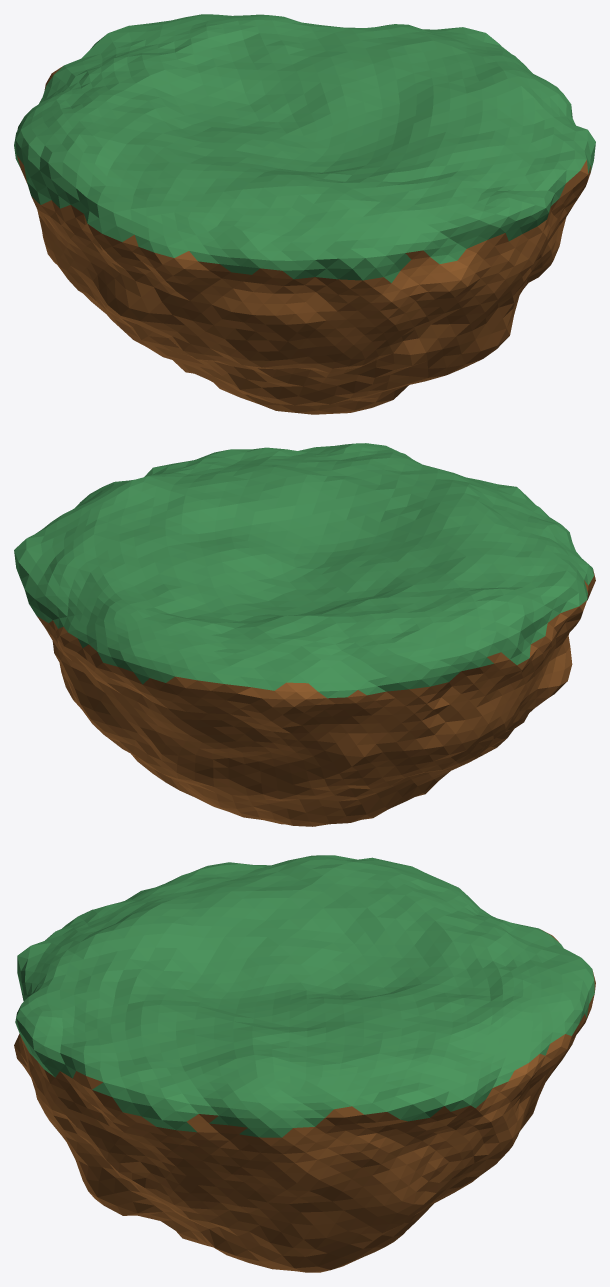
The model's file is forest_island_3fbx.fbx.
3 views of the same model, one above another, from view 1: azimuth 30°, elevation 25°; view 2: azimuth 150°, elevation 25°; view 3: azimuth 270°, elevation 25° (orthographic). The views are drawn at different scales.
Parts seen in each view (by area): view 1: Icosphere.024; view 2: Icosphere.024; view 3: Icosphere.024.
Part boxes in pixels (bbox=[...]): Icosphere.024: bbox=[14, 14, 595, 414]; Icosphere.024: bbox=[14, 443, 595, 826]; Icosphere.024: bbox=[14, 855, 595, 1272].
Size of the model in its own units: 4830 by 2662 by 4955.
